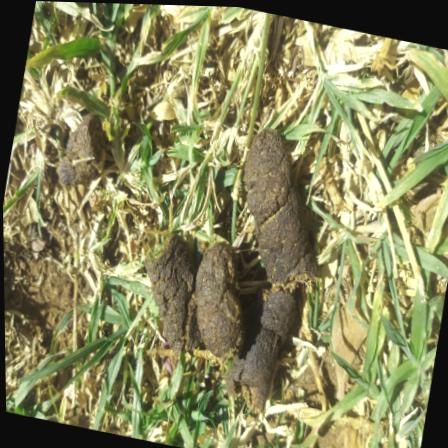dog-poop: (121, 96, 341, 431), (40, 90, 119, 232)
